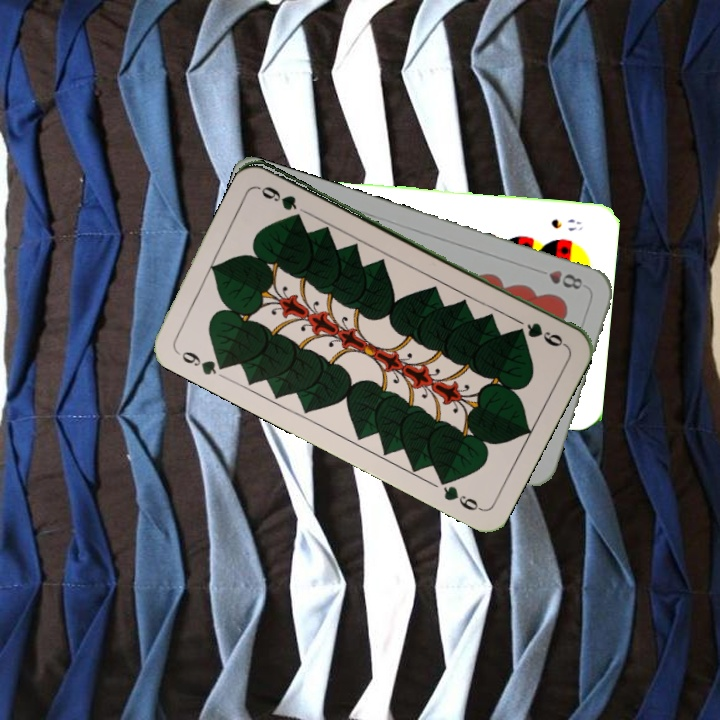G9: (171, 346, 230, 378), (522, 318, 569, 349)
H8: (531, 264, 585, 292)
S8: (547, 214, 586, 234)
